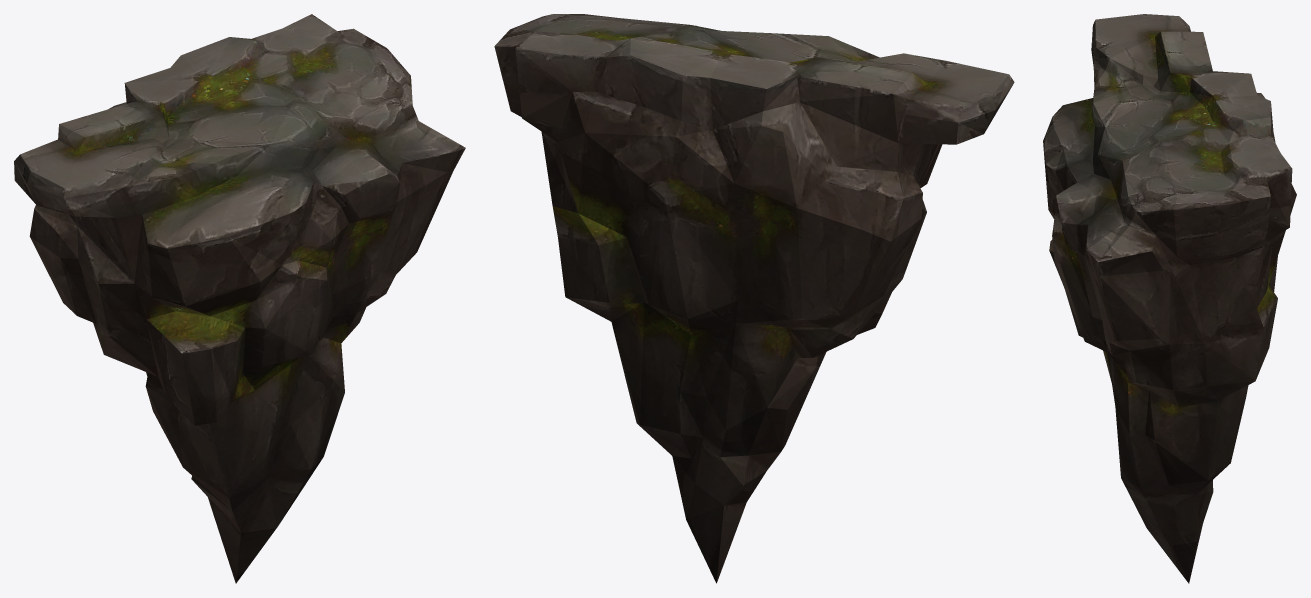
File: shitou2.fbx
3 renders of one model, left to right at view 1: azimuth 30°, elevation 25°; view 2: azimuth 150°, elevation 25°; view 3: azimuth 270°, elevation 25°, orthographic. The views are drawn at different scales.
Visible parts, largest first — view 1: shitou2; view 2: shitou2; view 3: shitou2.
Boxes of the visible parts, x1=… form: shitou2: x1=14, y1=14, x2=465, y2=583; shitou2: x1=494, y1=14, x2=1014, y2=583; shitou2: x1=1043, y1=14, x2=1296, y2=583.
Bounding box in the file's own units: 53.76 × 63.13 × 29.89.
1 material, 1 textured.
